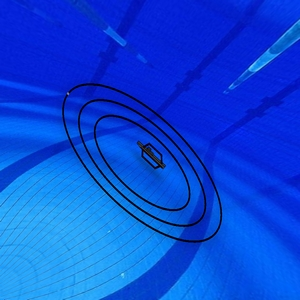circle: (61, 82, 227, 244)
submarine: (134, 138, 168, 173)
